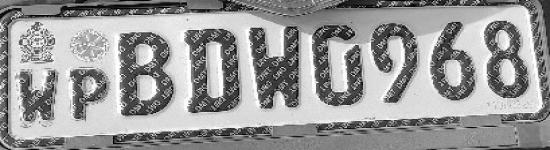0: (308, 17, 366, 110)
6: (425, 16, 479, 103)
8: (480, 12, 530, 103)
9: (366, 18, 423, 112)
B: (115, 27, 177, 121)
D: (180, 22, 244, 119)
P: (67, 64, 113, 125)
W: (245, 21, 307, 117), (14, 65, 61, 129)
